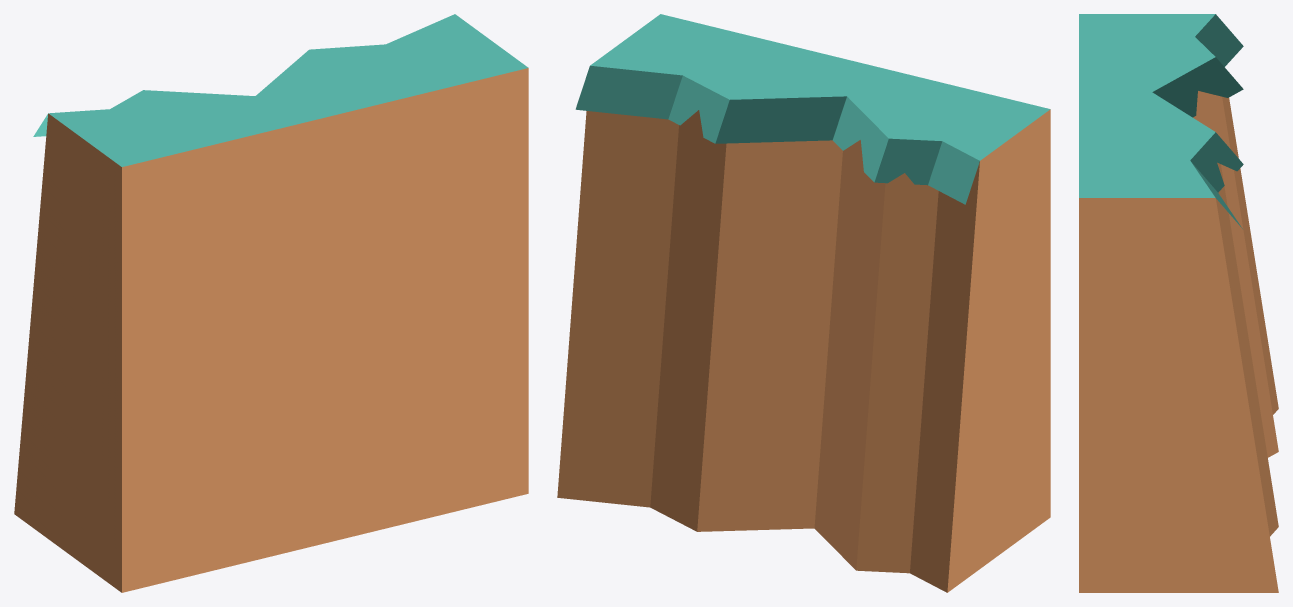
Rendered from cliffBrown_top.obj.
3 renders of one model, left to right at view 1: azimuth 30°, elevation 25°; view 2: azimuth 150°, elevation 25°; view 3: azimuth 270°, elevation 25°, orthographic. The views are drawn at different scales.
Parts seen in each view (by area): view 1: cliffBrown_top; view 2: cliffBrown_top; view 3: cliffBrown_top.
Boxes of the visible parts, x1,y1,x2,y2 form: cliffBrown_top: [14, 14, 528, 592]; cliffBrown_top: [557, 14, 1050, 592]; cliffBrown_top: [1079, 14, 1278, 592].
Bounding box in the file's own units: 10 × 10 × 4.58.
